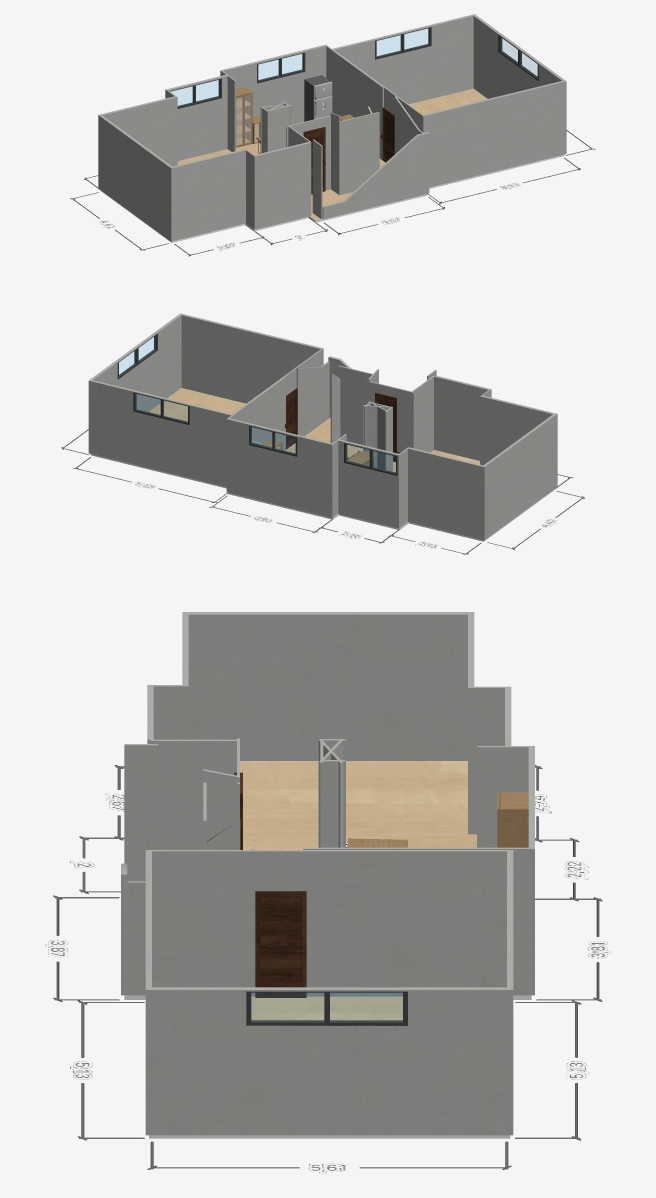
File: bodrum-kat.glb
3 views of the same model, one above another, from view 1: azimuth 30°, elevation 25°; view 2: azimuth 150°, elevation 25°; view 3: azimuth 270°, elevation 25° (orthographic). The views are drawn at different scales.
Parts seen in each view (by area): view 1: Duvar (×21), wall_022 (×4), Oda (×2), styledPlanOverlay, door_016 (×2), refrigerator, storage; view 2: Duvar (×21), wall_022 (×4), Oda (×2), styledPlanOverlay, door_016 (×2); view 3: Duvar (×17), Oda (×2), styledPlanOverlay, wall_022, door_016, storage.
Part boxes in pixels (left/top/right/bottom): Duvar (×21): left=98, top=14, right=566, bottom=241; wall_022 (×4): left=170, top=27, right=538, bottom=108; Oda (×2): left=100, top=88, right=564, bottom=242; styledPlanOverlay: left=70, top=130, right=595, bottom=256; door_016 (×2): left=303, top=107, right=394, bottom=194; refrigerator: left=304, top=75, right=332, bottom=121; storage: left=236, top=86, right=252, bottom=147; Duvar (×21): left=88, top=313, right=557, bottom=540; wall_022 (×4): left=117, top=333, right=397, bottom=475; Oda (×2): left=90, top=388, right=555, bottom=541; styledPlanOverlay: left=61, top=429, right=584, bottom=554; door_016 (×2): left=285, top=388, right=396, bottom=462; Duvar (×17): left=121, top=612, right=534, bottom=1135; Oda (×2): left=124, top=761, right=531, bottom=1138; styledPlanOverlay: left=45, top=765, right=610, bottom=1173; wall_022: left=246, top=991, right=407, bottom=1025; door_016: left=255, top=891, right=306, bottom=997; storage: left=497, top=792, right=528, bottom=847.
Bounding box in the file's own units: 0.8649 × 0.1431 × 0.4871.
13 materials, 9 textured.
